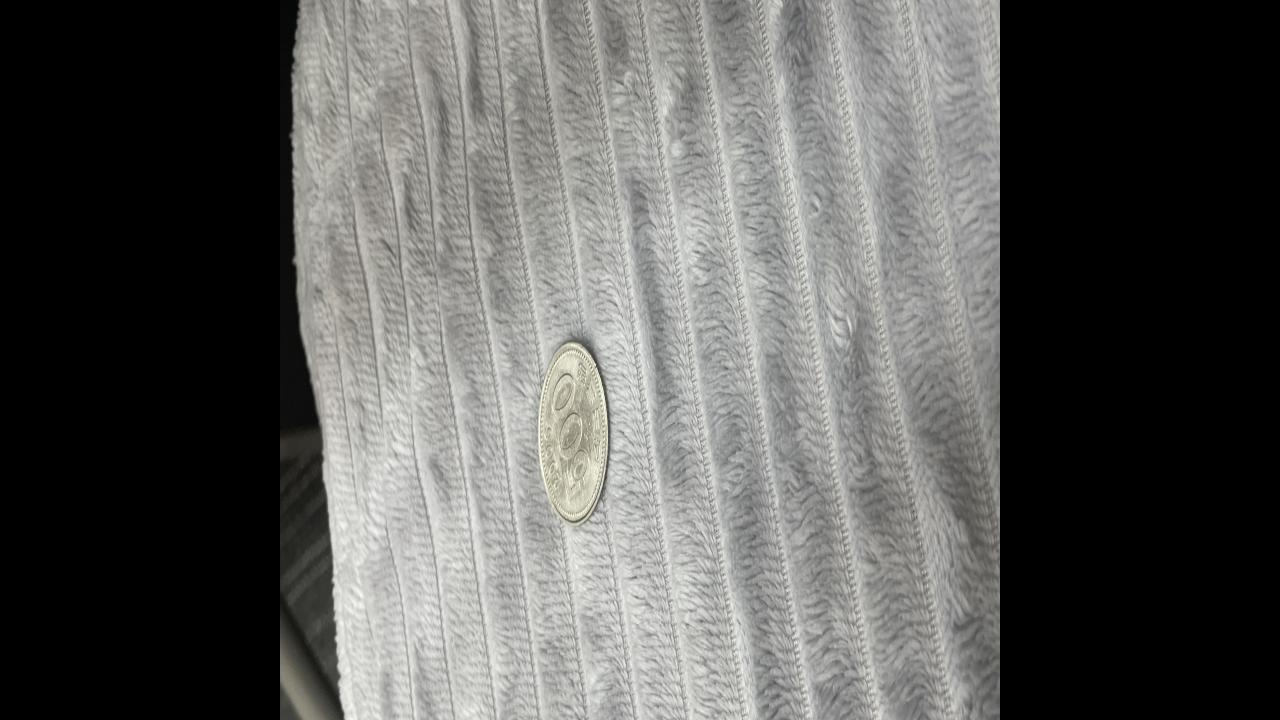coin: (536, 336, 610, 526)
